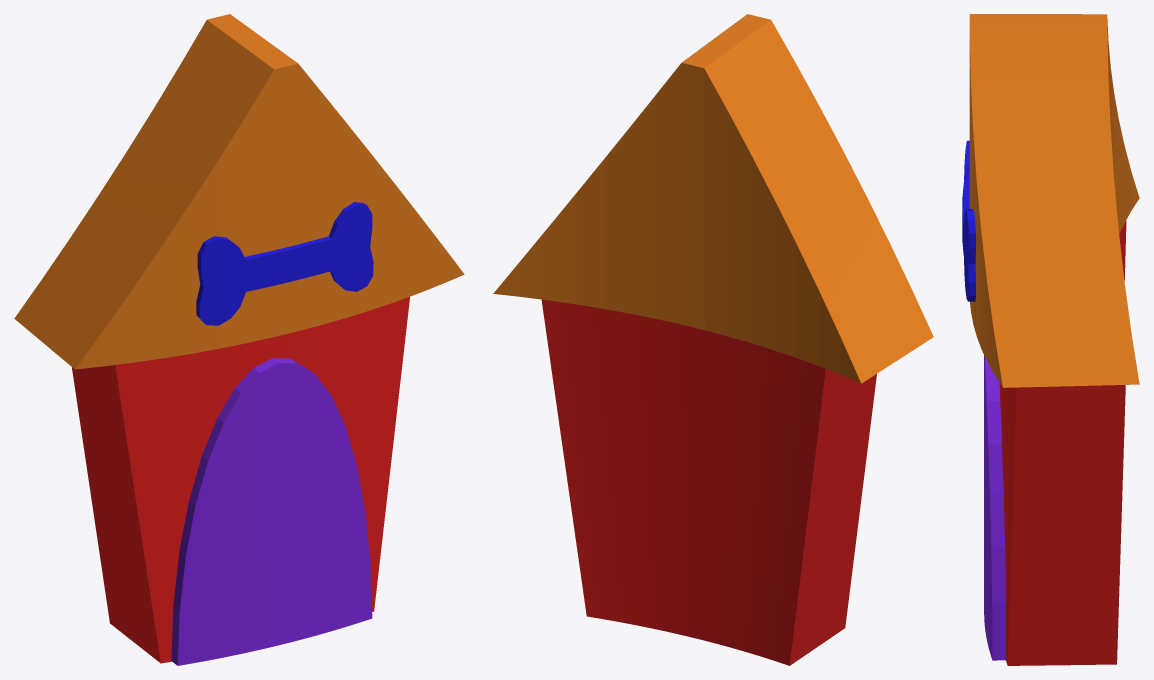
The model's file is DogHouse_Inner.fbx.
The picture shows the model from 3 angles, left to right: view 1: azimuth 30°, elevation 25°; view 2: azimuth 150°, elevation 25°; view 3: azimuth 270°, elevation 25°; orthographic projection. The views are drawn at different scales.
Visible parts, largest first — view 1: DogHouse_Inner; view 2: DogHouse_Inner; view 3: DogHouse_Inner.
Boxes of the visible parts, x1,y1,x2,y2 form: DogHouse_Inner: [14, 14, 464, 665]; DogHouse_Inner: [493, 14, 933, 665]; DogHouse_Inner: [962, 14, 1139, 665].
Size of the model in its own units: 23.39 by 33.54 by 9.09.
